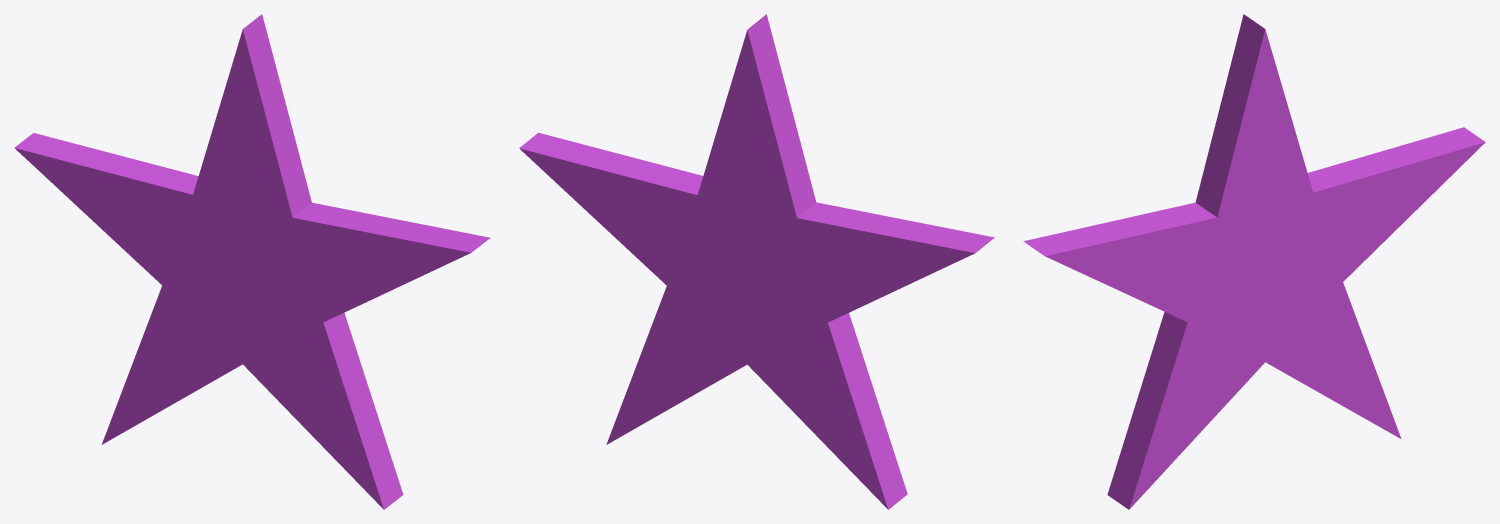
Rendered from Blender_File_Animated_Again.gltf.
The picture shows the model from 3 angles, left to right: view 1: azimuth 30°, elevation 25°; view 2: azimuth 210°, elevation 25°; view 3: azimuth 270°, elevation 25°; orthographic projection.
Visible parts, largest first — view 1: Star1; view 2: Star1; view 3: Star1.
Part boxes in pixels (x1=…): Star1: x1=14, y1=14, x2=490, y2=509; Star1: x1=519, y1=14, x2=994, y2=509; Star1: x1=1023, y1=14, x2=1485, y2=509.
Bounding box in the file's own units: 0.4037 × 0.6518 × 0.6128.
